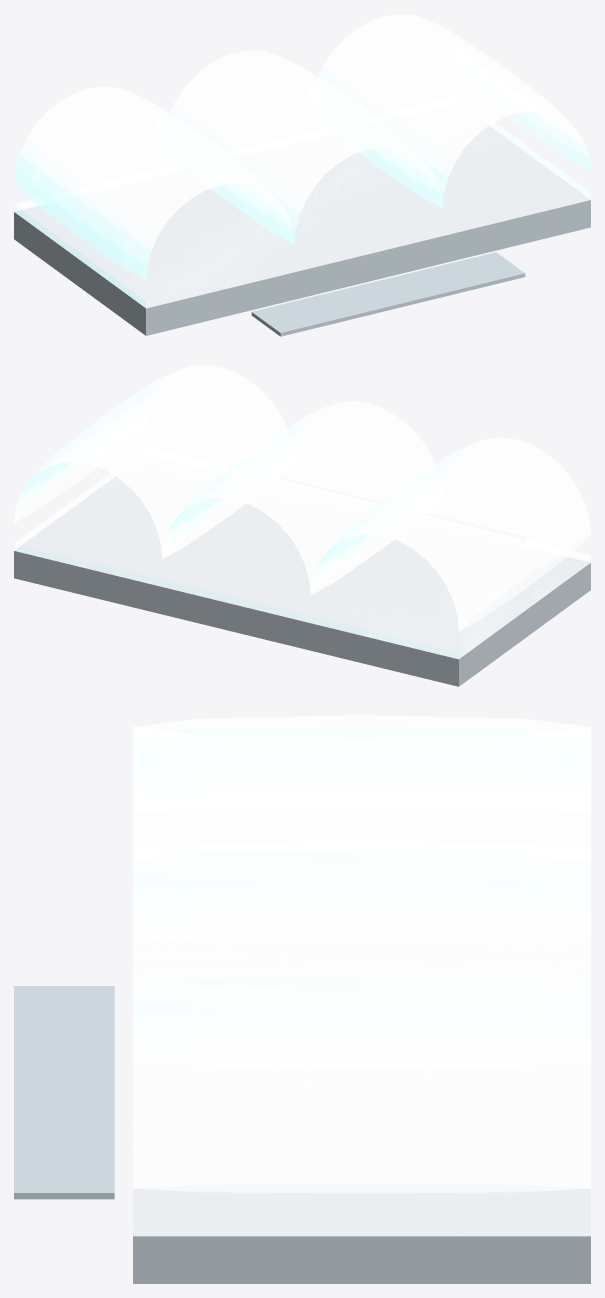
File: nexus_transportation_hub.glb
3 renders of one model, top to bottom at view 1: azimuth 30°, elevation 25°; view 2: azimuth 150°, elevation 25°; view 3: azimuth 270°, elevation 25°, orthographic. The views are drawn at different scales.
Parts seen in each view (by area): view 1: nexus_transportation_hub; view 2: nexus_transportation_hub; view 3: nexus_transportation_hub.
Part boxes in pixels (<box>): nexus_transportation_hub: <box>14,14,590,336</box>; nexus_transportation_hub: <box>14,365,590,686</box>; nexus_transportation_hub: <box>14,715,590,1283</box>.
Bounding box in the file's own units: 110 × 31.81 × 69.17.
